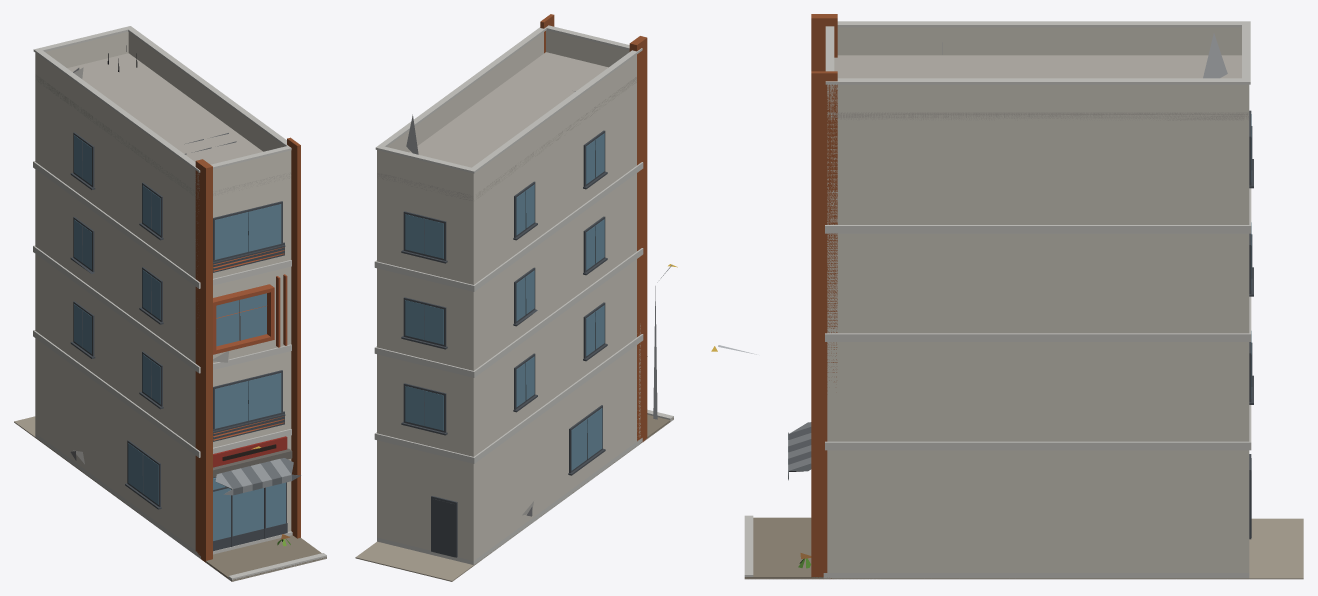
Rendered from bay2_left.glb.
The picture shows the model from 3 angles, left to right: view 1: azimuth 30°, elevation 25°; view 2: azimuth 150°, elevation 25°; view 3: azimuth 270°, elevation 25°; orthographic projection. The views are drawn at different scales.
Visible parts, largest first — view 1: body; view 2: body; view 3: body.
Part boxes in pixels (x1,y1,x2,y2): body: (14, 26, 326, 581); body: (355, 14, 673, 581); body: (718, 14, 1303, 579).
Bounding box in the file's own units: 4.42 × 17.08 × 16.88.
